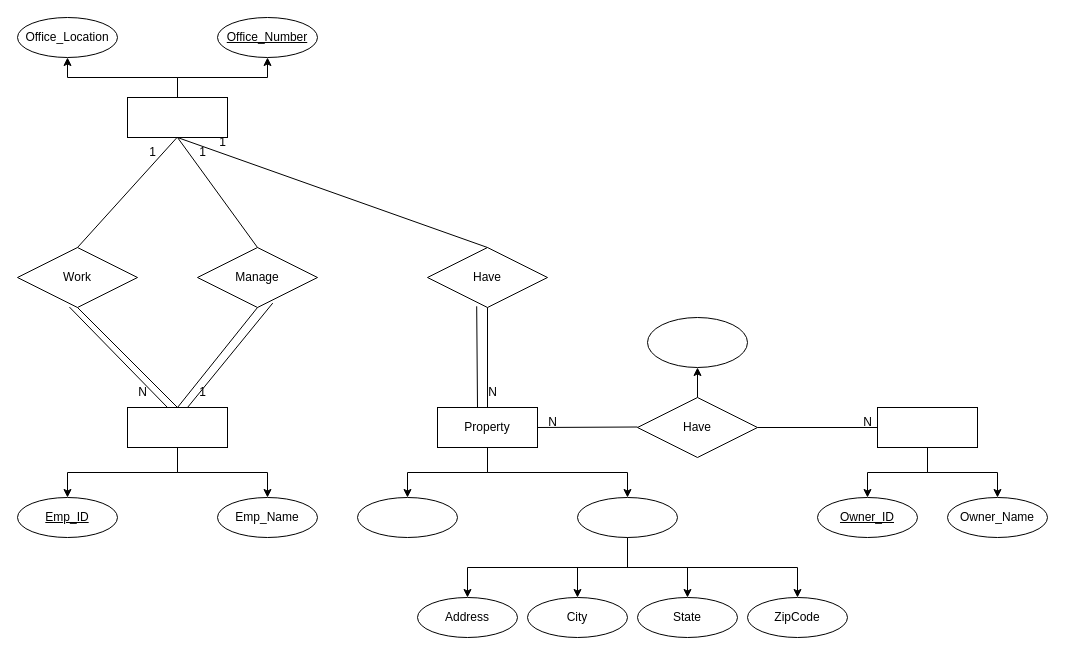
Some shapes in this 1065 by 655 pixel diagram are drawn without their labels. Each missing label, with the centre of its shape:
"Employee" belongs at point 177,427.
"Office" belongs at point 177,117.
"Owner" belongs at point 927,427.
"Precent" belongs at point 697,342.
"Prop_ID" belongs at point 407,517.
"Prop_Location" belongs at point 627,517.
